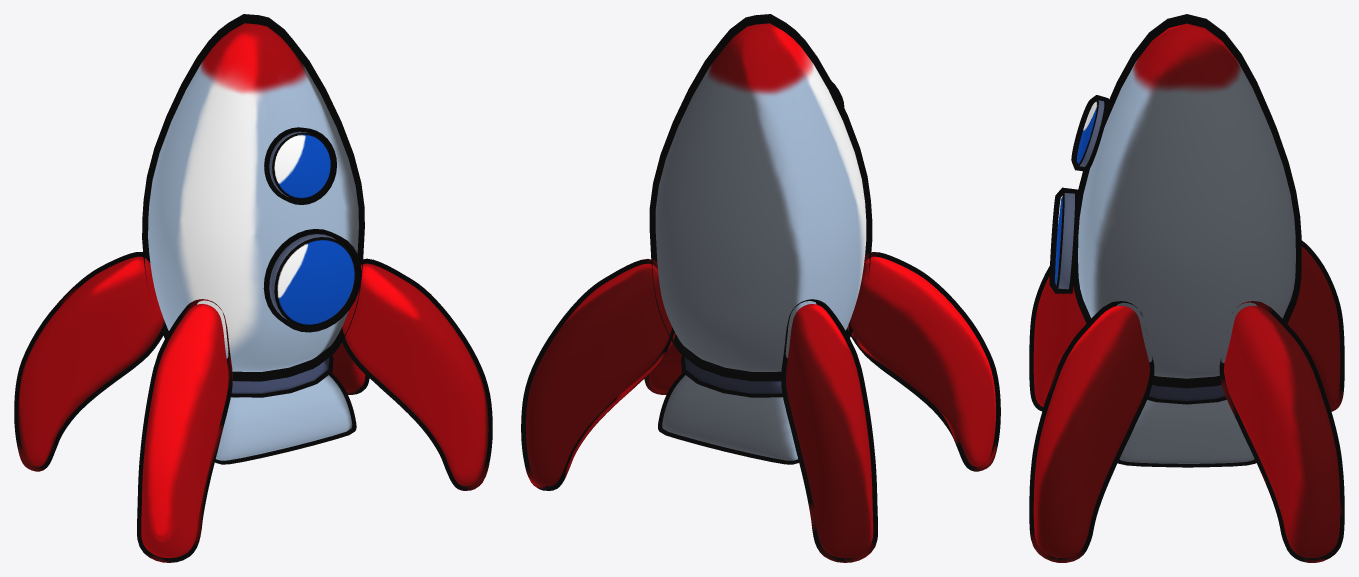
The picture shows the model from 3 angles, left to right: view 1: azimuth 30°, elevation 25°; view 2: azimuth 150°, elevation 25°; view 3: azimuth 270°, elevation 25°; orthographic projection.
Visible parts, largest first — view 1: Leg_0, Rocket_Top_3, Rocket_Bottom_1, Window_4, Window.001_5, Rocket_Middle_2; view 2: Rocket_Top_3, Leg_0, Rocket_Bottom_1, Rocket_Middle_2; view 3: Rocket_Top_3, Leg_0, Rocket_Bottom_1, Window_4, Window.001_5, Rocket_Middle_2.
Part boxes in pixels (bbox=[...]): Leg_0: bbox=[14, 252, 492, 562]; Rocket_Top_3: bbox=[142, 14, 364, 381]; Rocket_Bottom_1: bbox=[215, 373, 356, 464]; Window_4: bbox=[263, 229, 361, 332]; Window.001_5: bbox=[264, 127, 336, 204]; Rocket_Middle_2: bbox=[231, 355, 333, 397]; Rocket_Top_3: bbox=[649, 14, 872, 381]; Leg_0: bbox=[521, 252, 1000, 562]; Rocket_Bottom_1: bbox=[658, 373, 798, 464]; Rocket_Middle_2: bbox=[681, 355, 782, 397]; Rocket_Top_3: bbox=[1072, 14, 1301, 388]; Leg_0: bbox=[1029, 240, 1344, 562]; Rocket_Bottom_1: bbox=[1118, 400, 1256, 467]; Window_4: bbox=[1049, 187, 1079, 293]; Window.001_5: bbox=[1071, 95, 1108, 171]; Rocket_Middle_2: bbox=[1147, 384, 1226, 404].
Bounding box in the file's own units: 11.69 × 14.75 × 8.99.
Materials: 4 (4 with a texture image).
